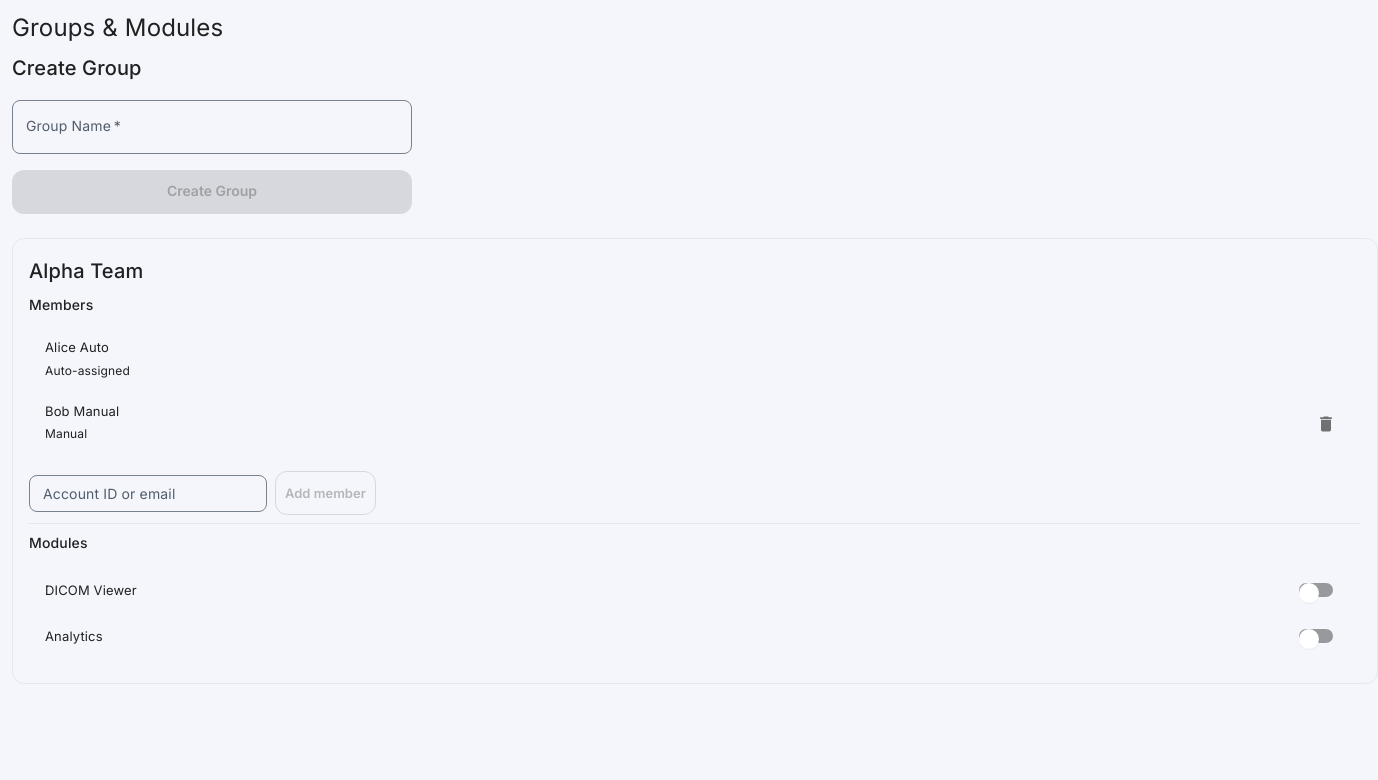
Scenario: GroupsPage › SR-014.3: a sysadmin can add a manual member; list refreshes
The width and height of the screenshot is (1378, 780).
Check: the text "Bob Manual" is shown, box [45,403,119,419]
Type "a3" into the field labelled "Account ID or email" at (148, 493), box [29,475,267,512]
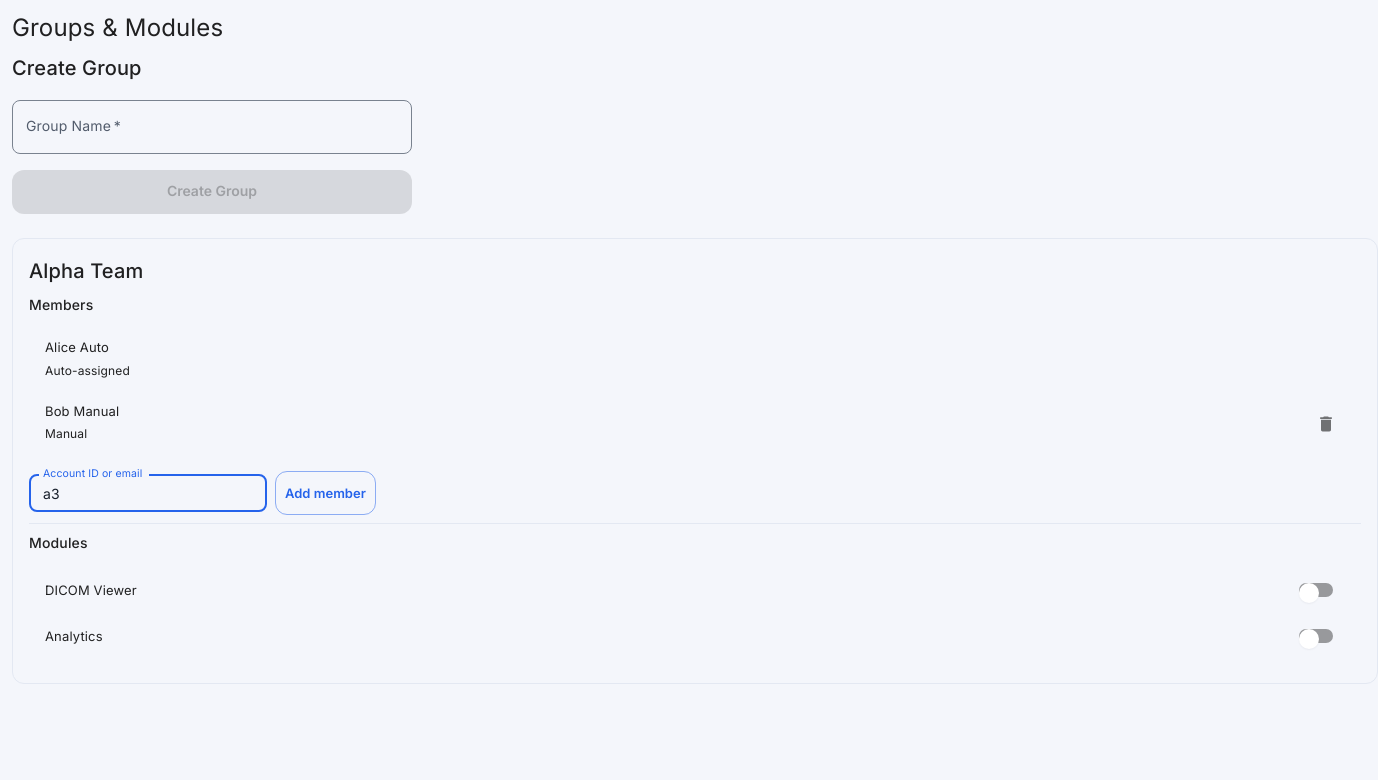
Click the button "Add member" at (325, 493), box [275,471,376,515]
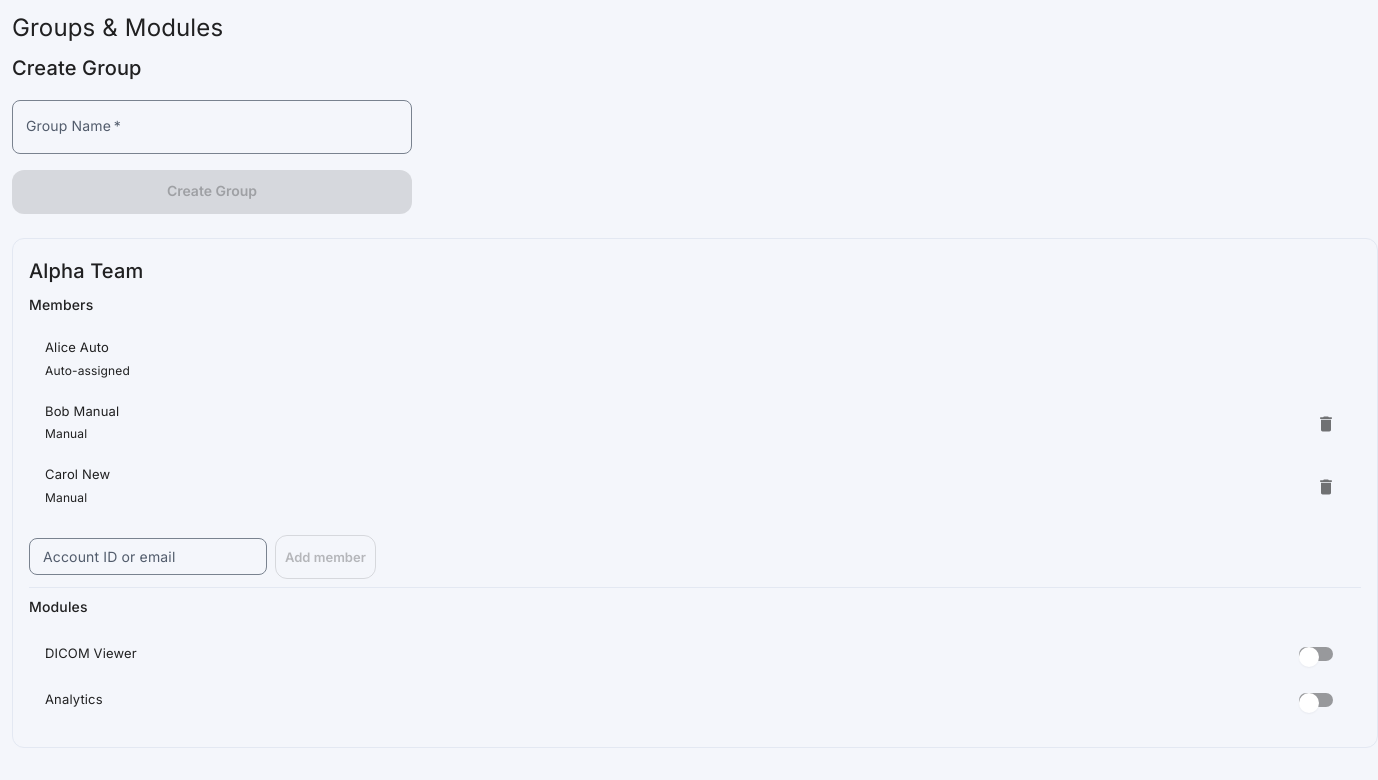
Check: the text "Carol New" is shown, box [45,466,110,482]
